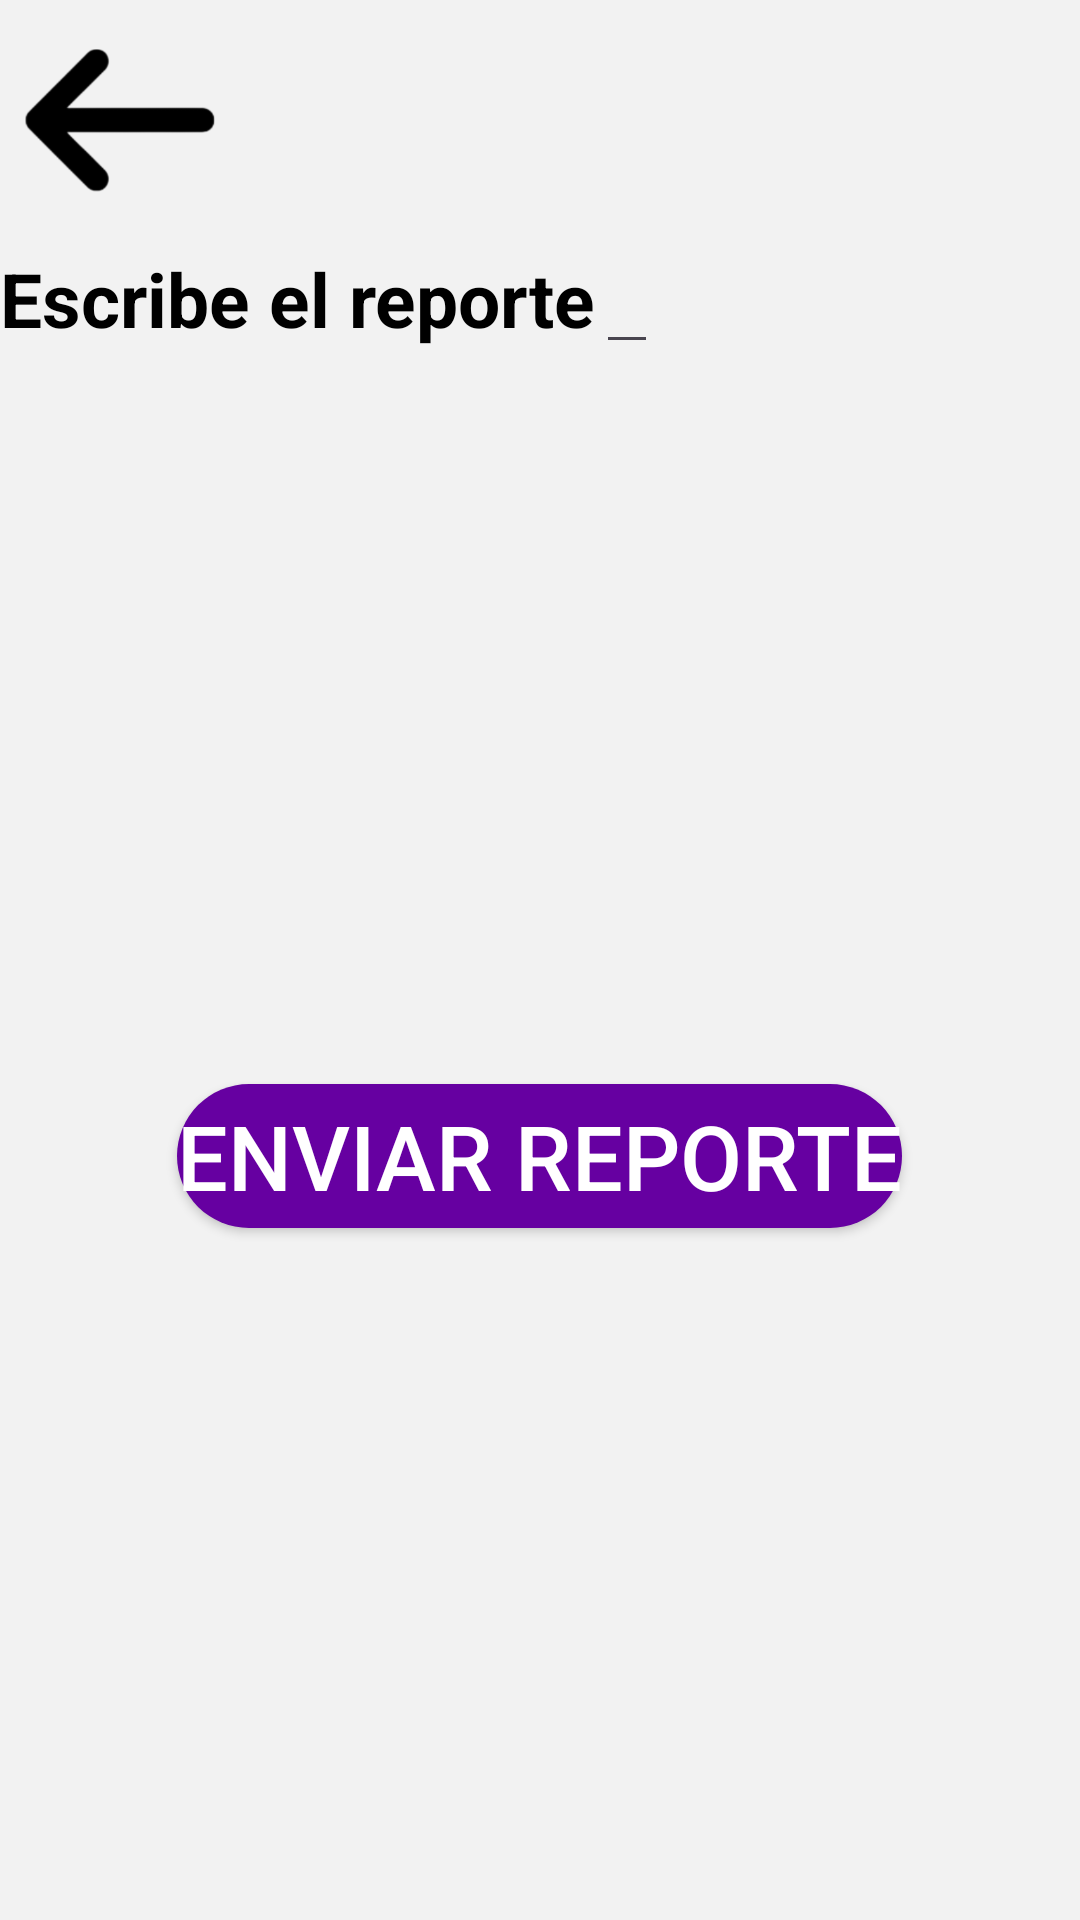

Where icons sit on this 1080×1920 app screen, as (x1=x1, y1=y1, x2=x2, y2=y2):
flecha: (x1=25, y1=49, x2=215, y2=192)
